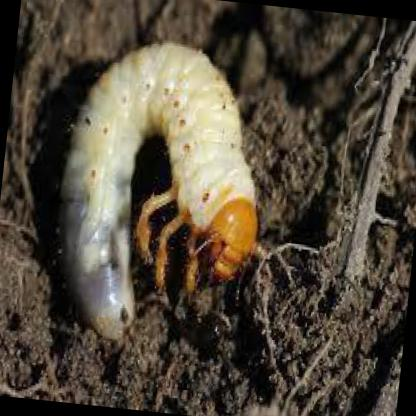root grubs: (57, 43, 256, 340)
